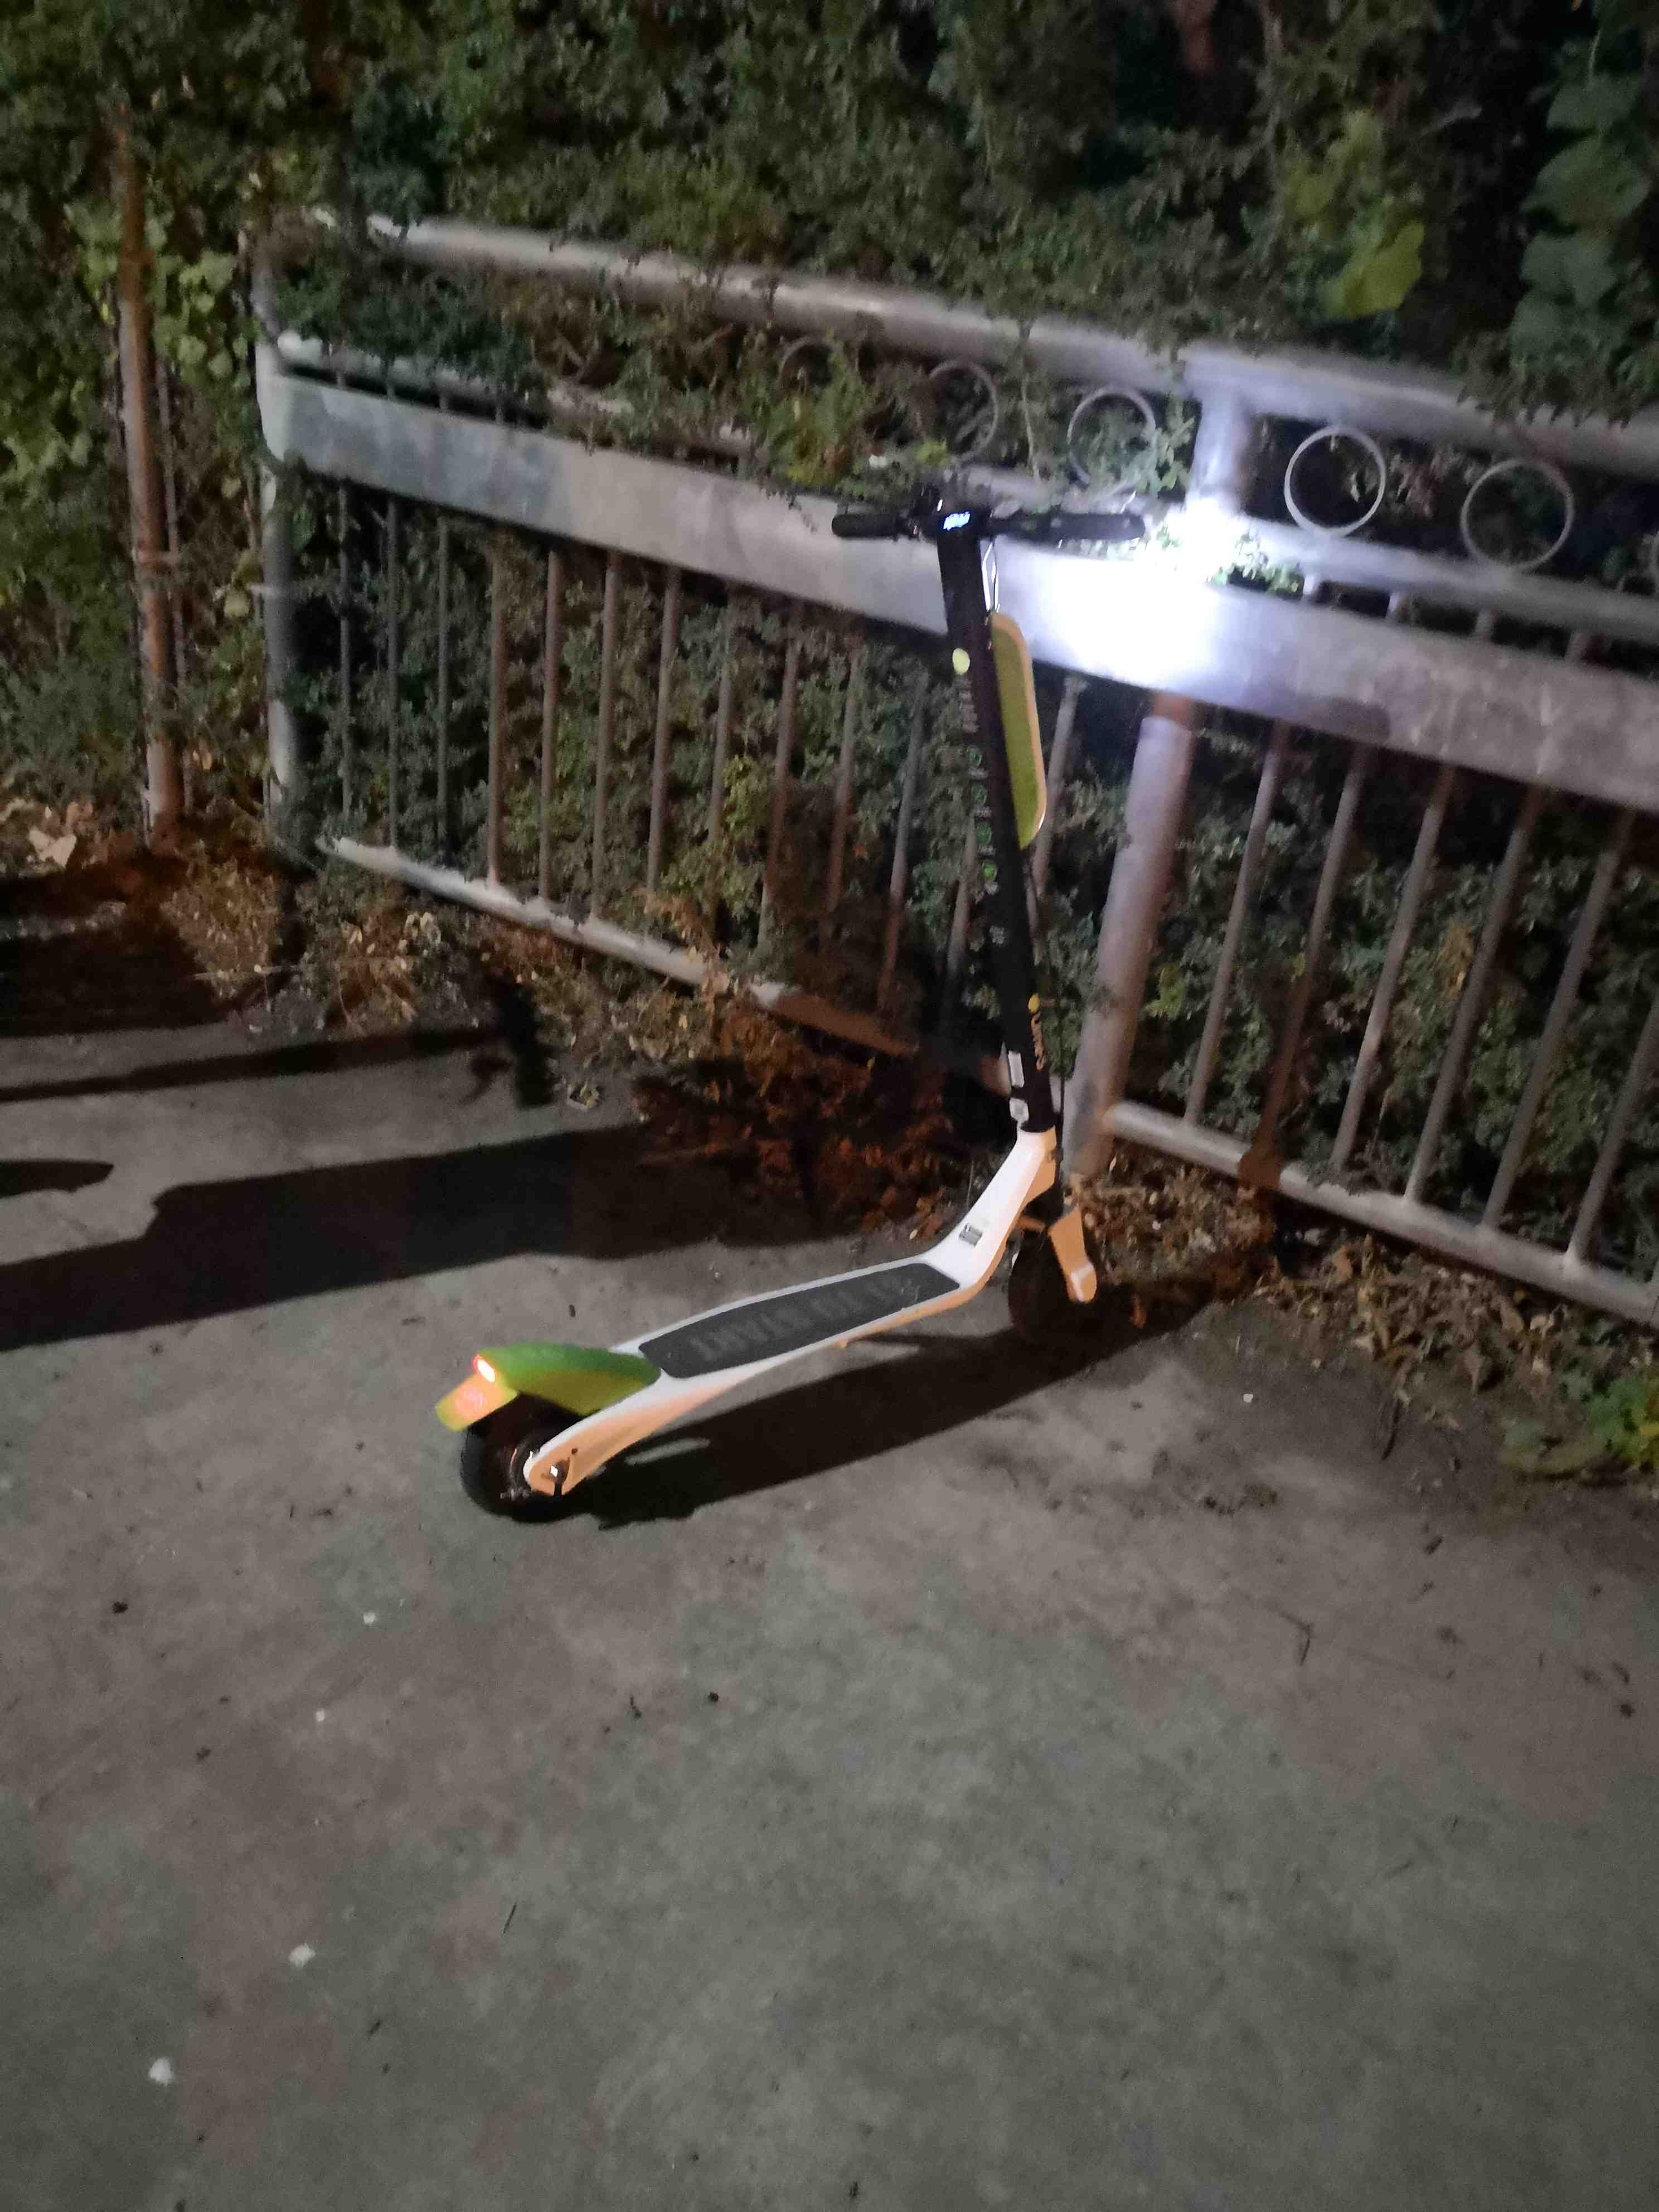scooter: (451, 472, 1199, 1548)
